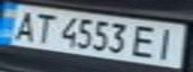3: (109, 20, 133, 56)
4: (54, 15, 81, 48)
5: (90, 18, 112, 53), (75, 16, 96, 51)
A: (6, 8, 42, 43)
E: (127, 22, 163, 60)
I: (151, 25, 184, 61)
T: (27, 11, 60, 44)
